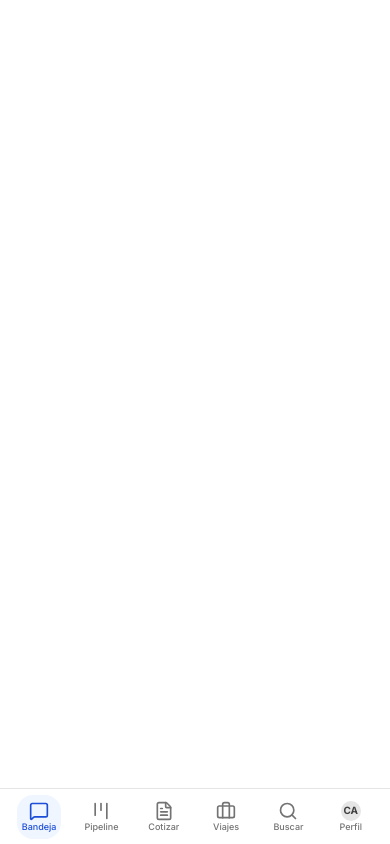
Scenario: BarraModulos y Selector de Sesión (ADR-0011) › Interacción con Menú de Sesión y Perfil › abre el diálogo de sesión al pulsar el botón de perfil móvil
The width and height of the screenshot is (390, 844).
Click the button with test id "boton-perfil-movil". click: (351, 816)
box: [329,794,373,838]
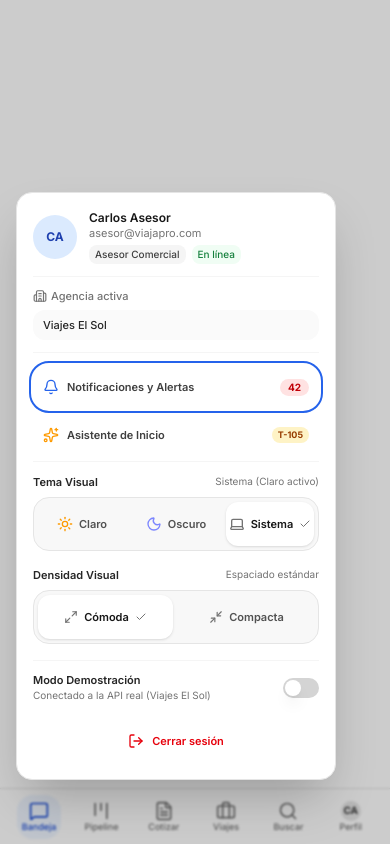
expect the dialog with test id "dialogo-perfil-sesion" is shown: met, box [16,192,336,780]
